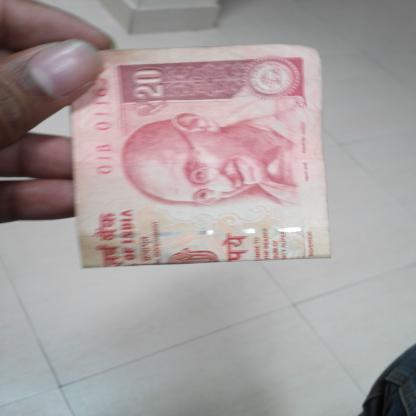Old20Front: (70, 44, 332, 268)
